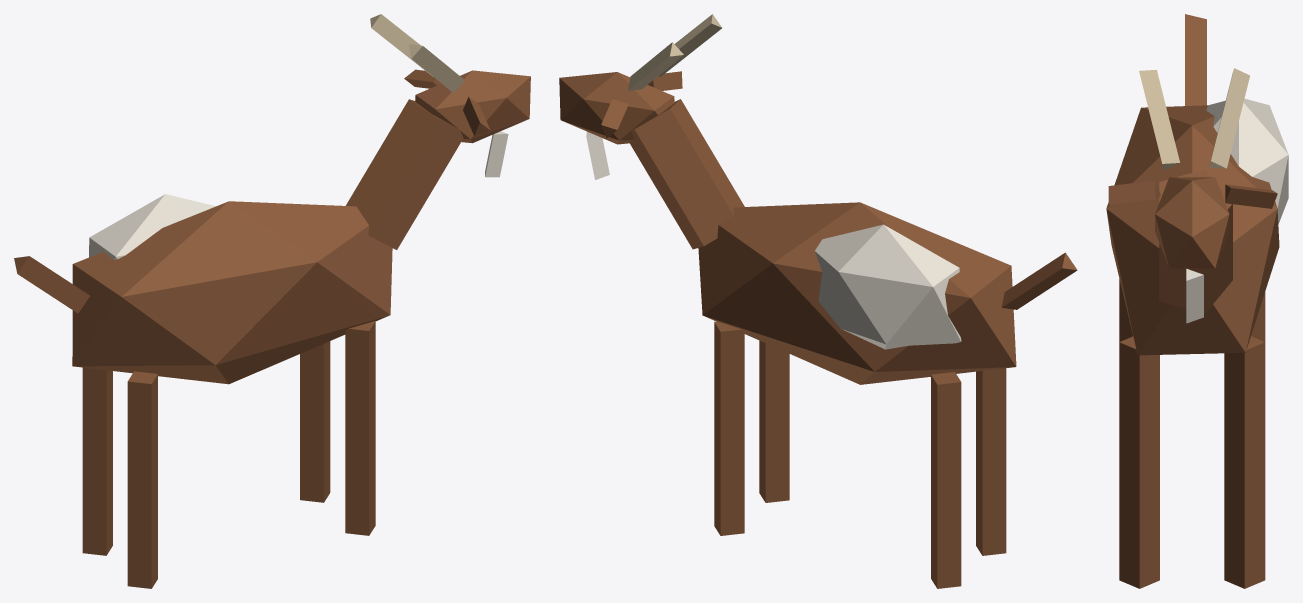
Rendered from get_2.glb.
3 renders of one model, left to right at view 1: azimuth 30°, elevation 25°; view 2: azimuth 150°, elevation 25°; view 3: azimuth 270°, elevation 25°, orthographic. The views are drawn at different scales.
Visible parts, largest first — view 1: get_2; view 2: get_2; view 3: get_2.
Part boxes in pixels (x1,y1,x2,y2): get_2: (14, 14, 530, 588); get_2: (559, 14, 1077, 588); get_2: (1106, 14, 1288, 588).
Bounding box in the file's own units: 1.19 × 1.03 × 0.3121.
